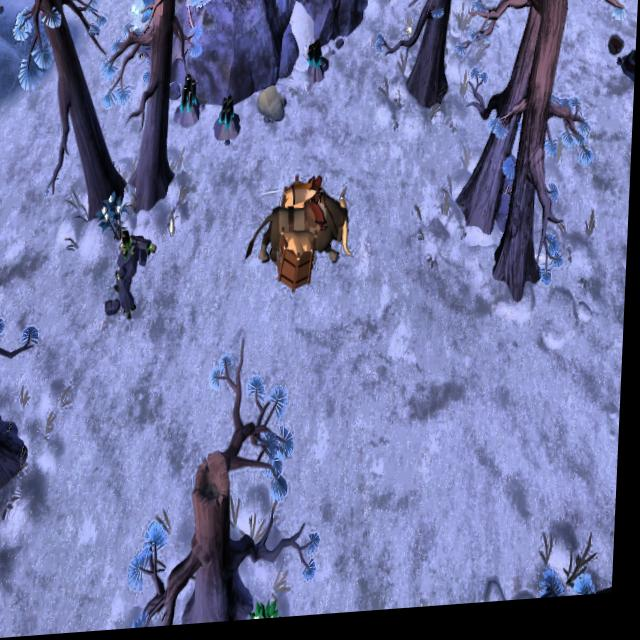fiber_t3: (253, 604, 291, 624)
ore_t4: (180, 74, 200, 117), (218, 96, 237, 131), (306, 42, 324, 78)
